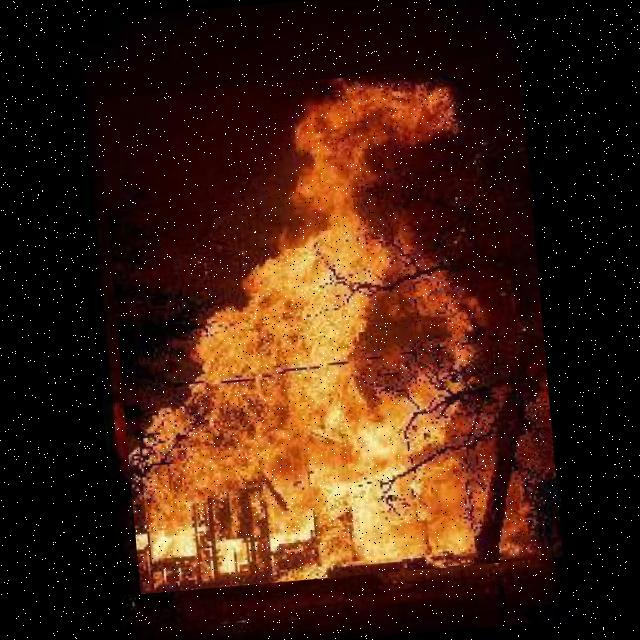fire: (97, 61, 562, 594)
